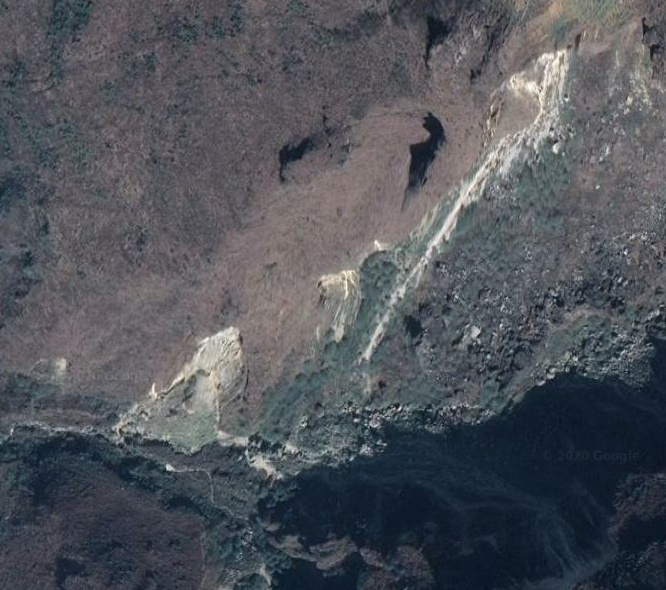slope: (360, 50, 579, 358), (116, 321, 252, 456), (315, 264, 363, 354)
